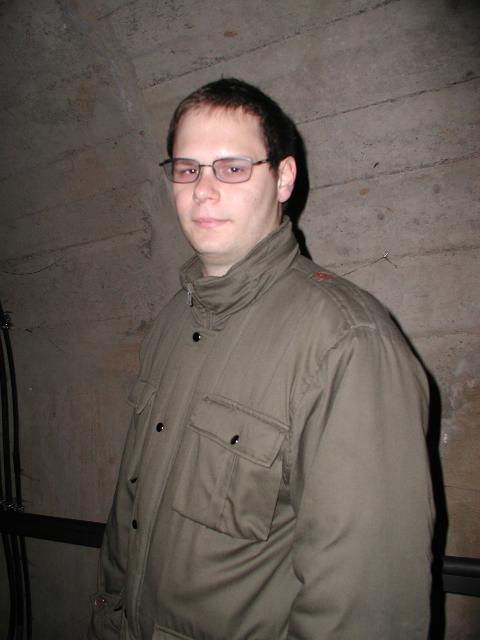Person: (92, 76, 448, 640)
